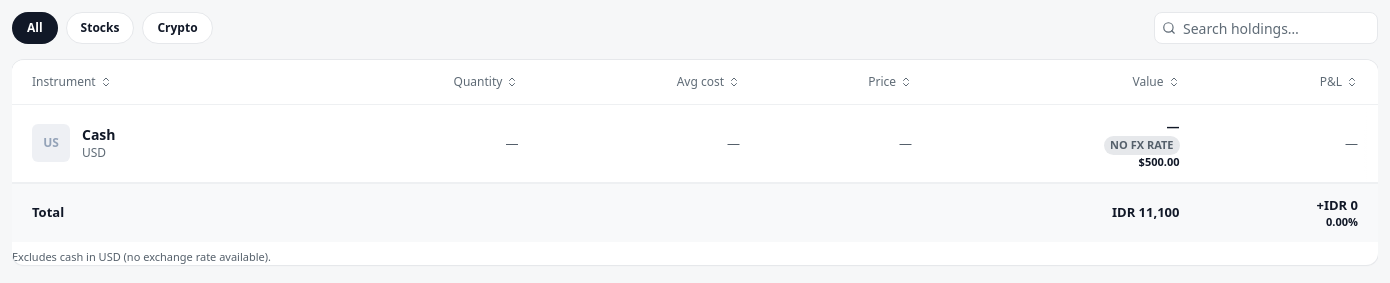
Test: PositionsPanel › filters the cash row by currency code and keeps it when the label matches
The width and height of the screenshot is (1390, 283).
Expected: the text "Cash" is shown, [82,125,116,144]
Step 1. Type "usd" into the field with placeholder "Search holdings…" → x=1266, y=28, box [1154,12,1378,44]
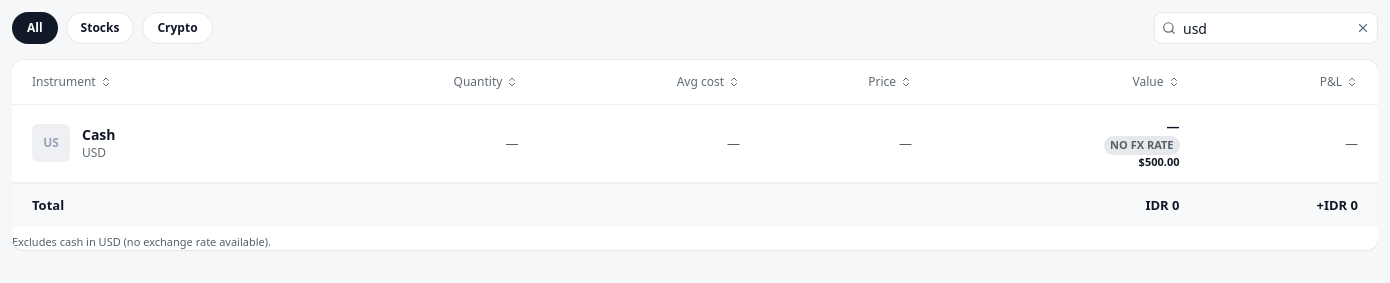
Expected: the text "Cash" is shown, [82,125,116,144]
Step 2. Replace the text in the field with placeholder "Search holdings…" with "cash" → x=1266, y=28, box [1154,12,1378,44]
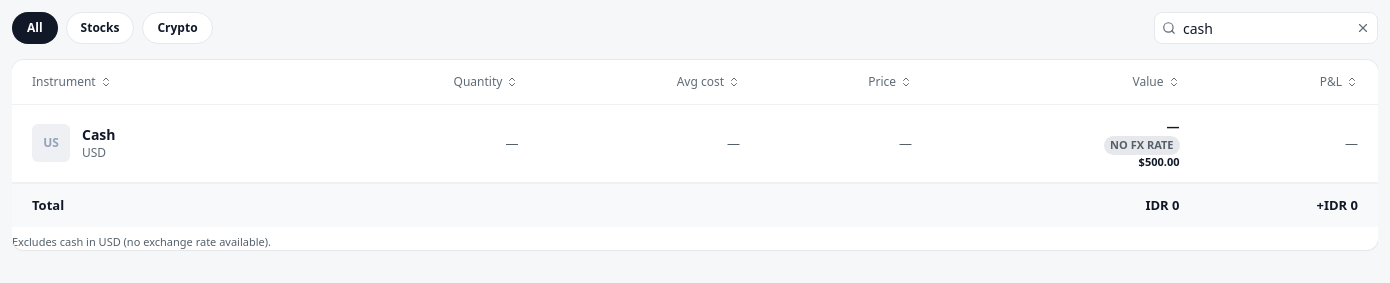
Expected: the text "Cash" is shown, [82,125,116,144]
Step 3. Replace the text in the field with placeholder "Search holdings…" with "eur" → x=1266, y=28, box [1154,12,1378,44]
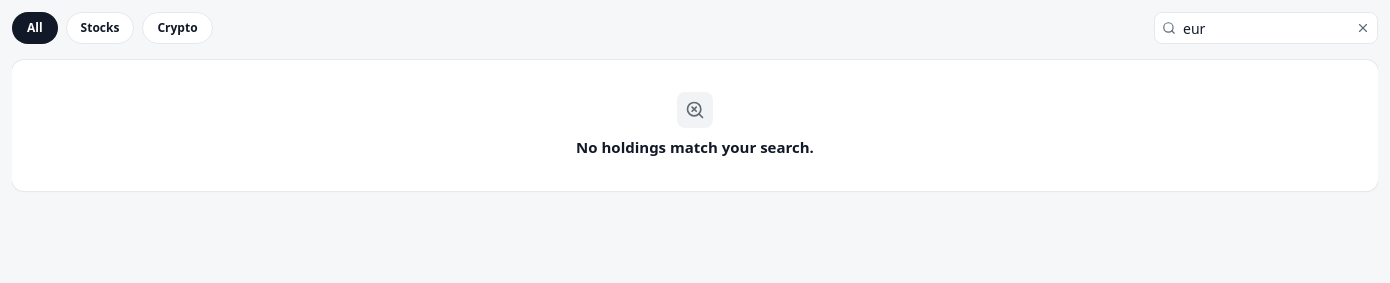
Expected: the text "Cash" is gone
